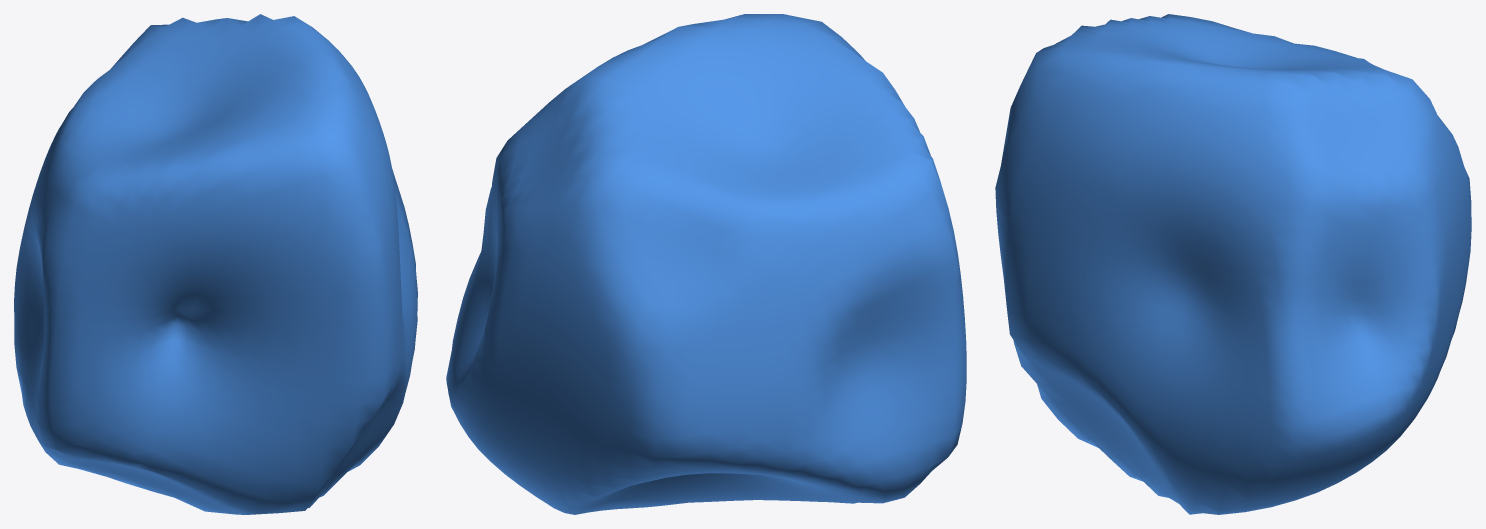
File: sten2.glb
3 renders of one model, left to right at view 1: azimuth 30°, elevation 25°; view 2: azimuth 150°, elevation 25°; view 3: azimuth 270°, elevation 25°, orthographic. The views are drawn at different scales.
Visible parts, largest first — view 1: Cube; view 2: Cube; view 3: Cube.
Part boxes in pixels (bbox=[...]): Cube: bbox=[14, 14, 417, 514]; Cube: bbox=[446, 14, 966, 514]; Cube: bbox=[995, 14, 1471, 514].
Bounding box in the file's own units: 0.9286 × 0.9071 × 0.8909.
